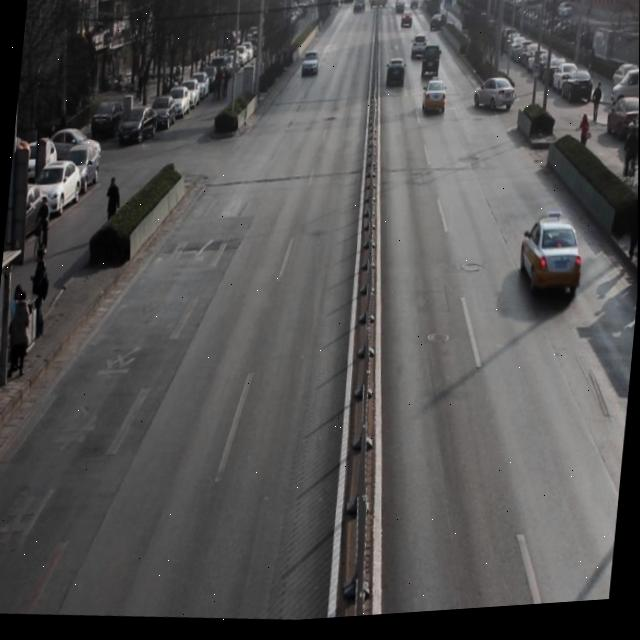car: (518, 224, 588, 312), (471, 82, 519, 124), (422, 83, 449, 123), (299, 49, 321, 85), (385, 62, 407, 94), (409, 38, 429, 71)
truck: (419, 49, 444, 86)
